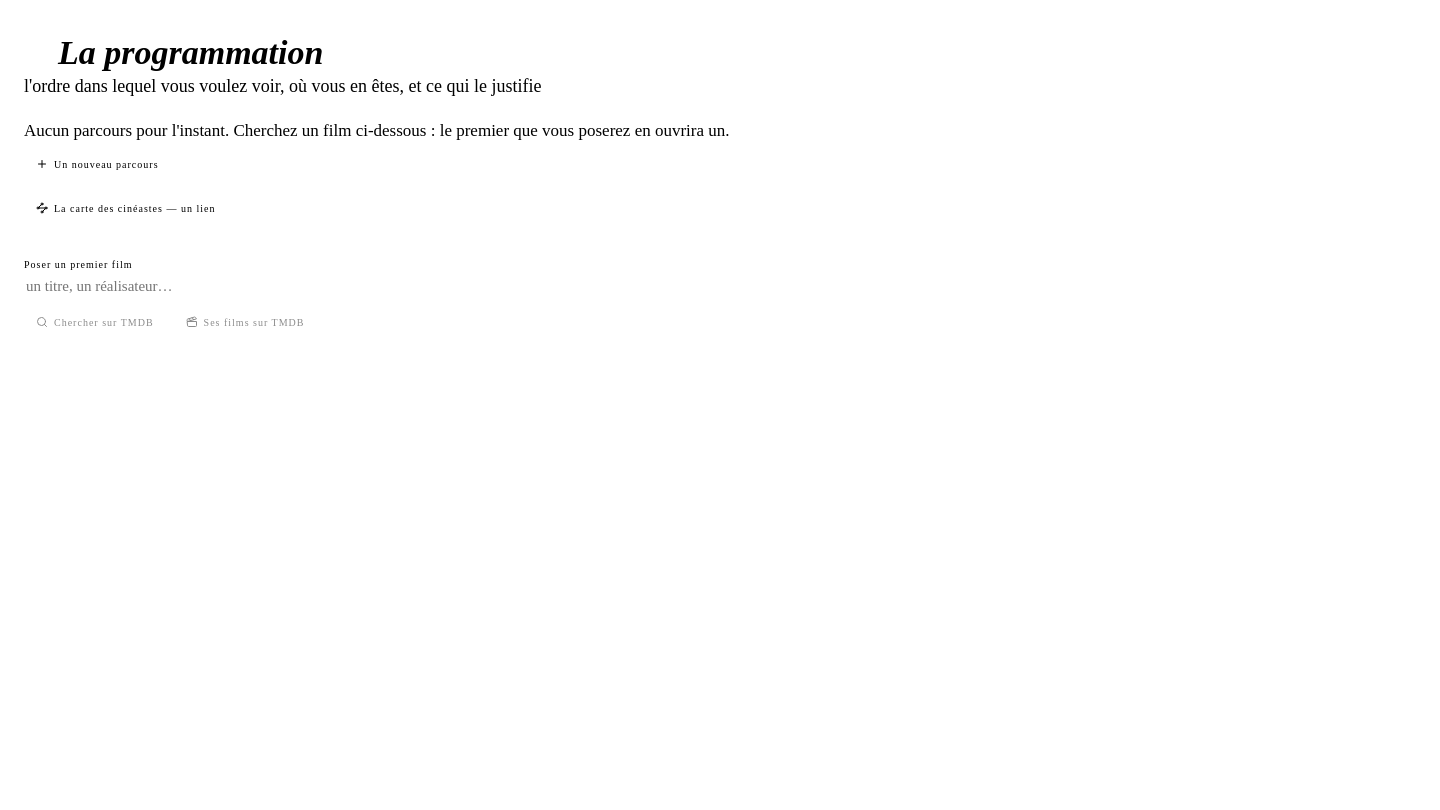
Test: la moisson › ne propose pas ce qui est déjà sur la carte
The width and height of the screenshot is (1440, 810).
Click the button "La carte des cinéastes — un lien": point(126, 208) top-left (24, 195), bottom-right (227, 221)
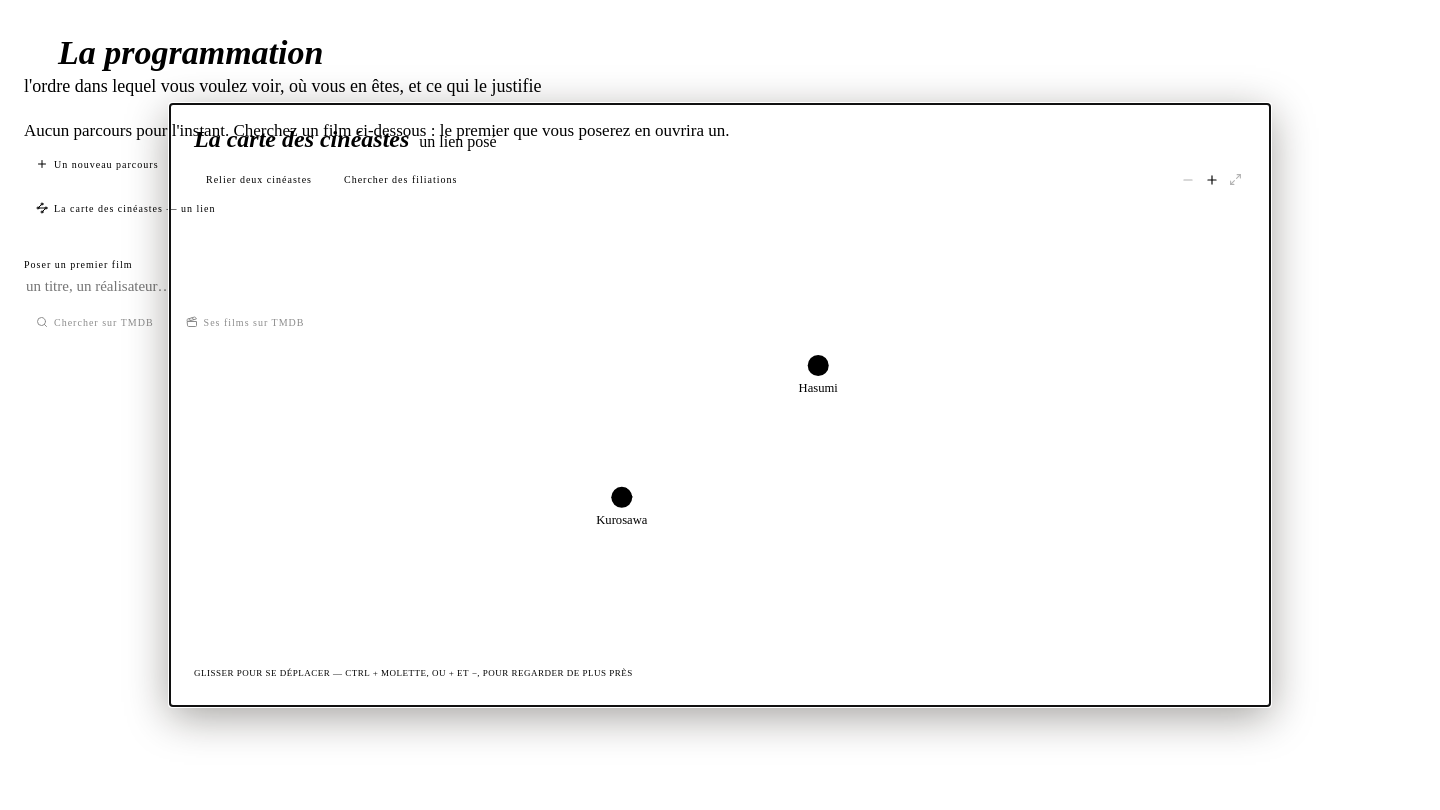
Click the button "Chercher des filiations": point(401, 180) top-left (332, 167), bottom-right (470, 192)
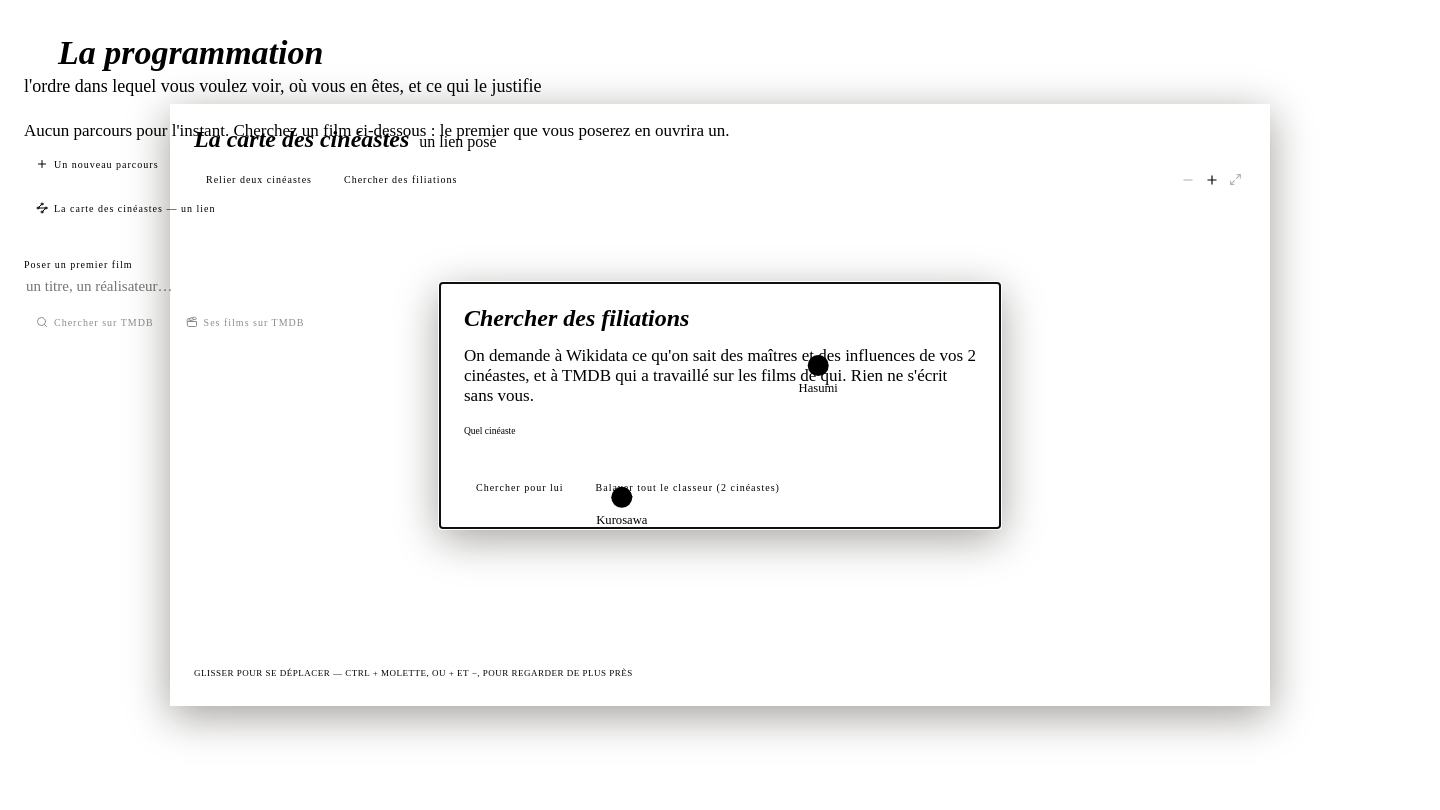
In the field: point(720, 450) top-left (464, 438), bottom-right (976, 462), type "Kurosawa"
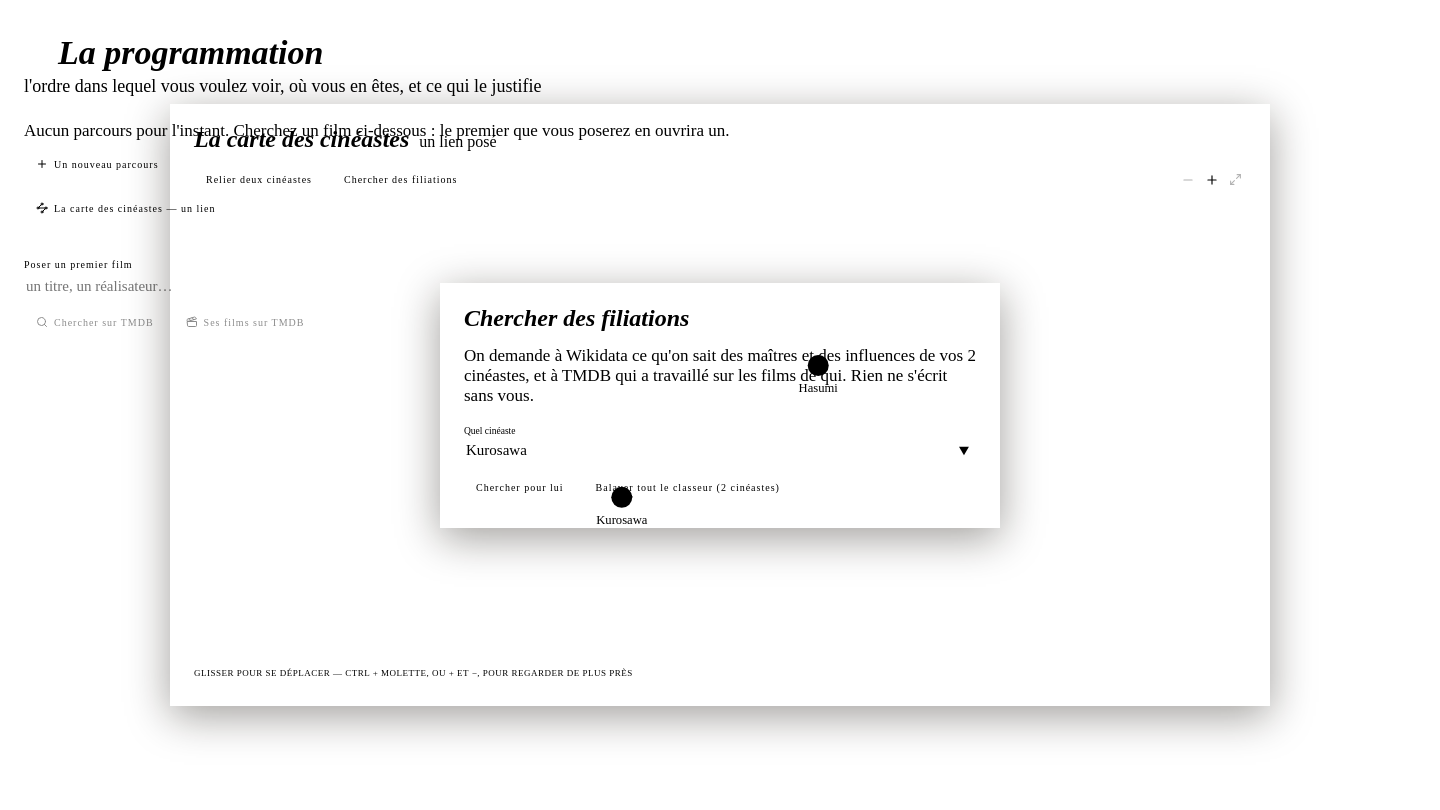
Click the button "Chercher pour lui": point(520, 487) top-left (464, 474), bottom-right (576, 500)
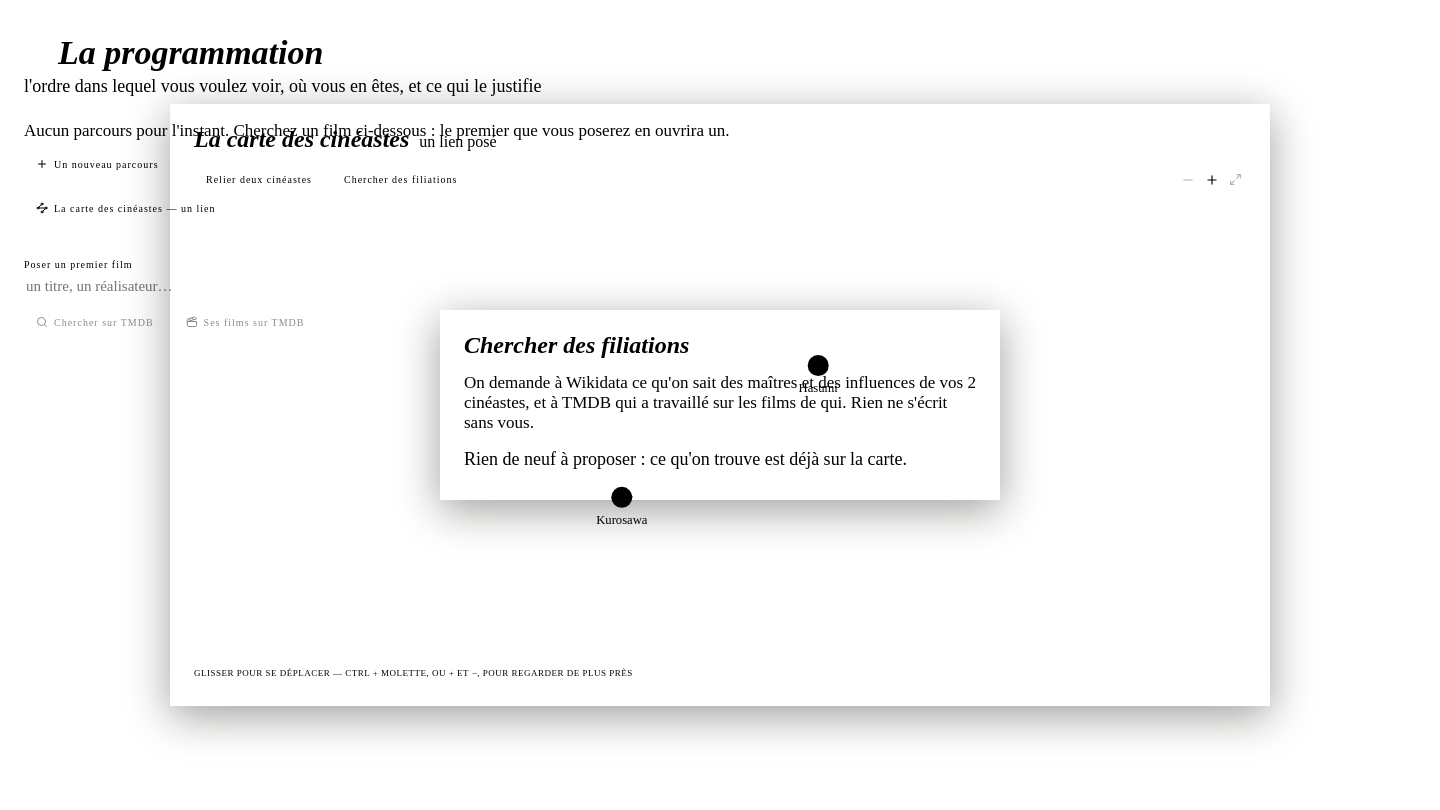
Expected: the text "déjà sur la carte" is shown, top-left (464, 449), bottom-right (907, 469)
